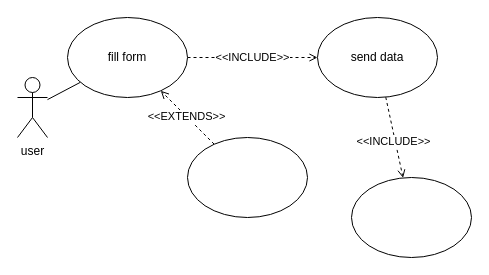
The diagram is 489 pixels wide and 275 high, and some of its shapes have lost their labels. The shapes that lost their labels are listed below. From the top down, each one's centre as x and y in pixels, then its label:
the point at 247,177: fill mail
the point at 411,217: receive response
